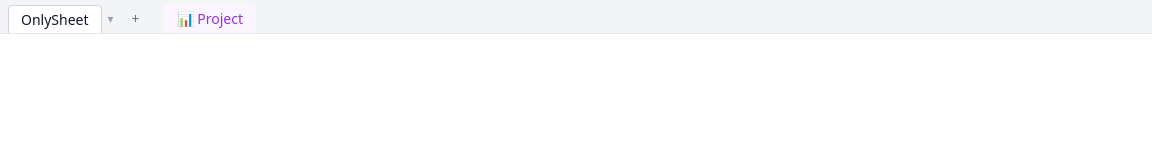
Test: SheetTabs › actions menu › disables Delete when only one sheet exists
Click the button titled "Sheet actions (Rename, Copy, Delete)" at (110, 19), box [102,7,120,31]
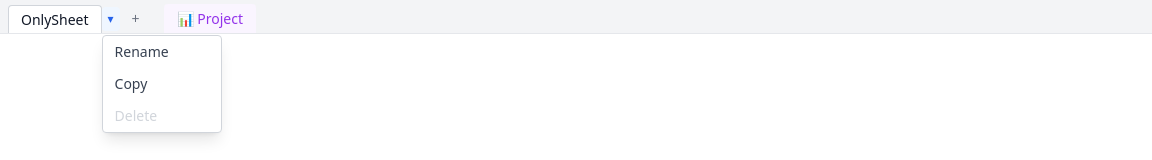
Now the button "Delete" is disabled, box [102,100,220,132]
